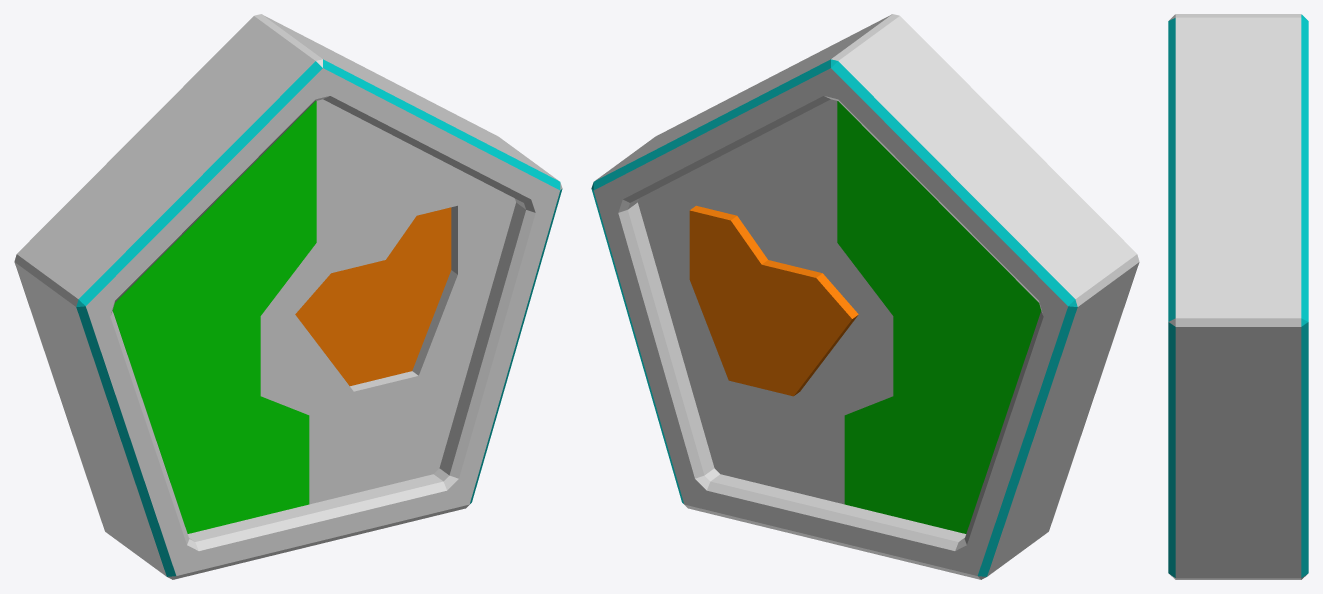
File: door_ver1.obj
The picture shows the model from 3 angles, left to right: view 1: azimuth 30°, elevation 25°; view 2: azimuth 150°, elevation 25°; view 3: azimuth 270°, elevation 25°; orthographic projection.
Parts seen in each view (by area): view 1: object1, object3, object2; view 2: object1, object3, object2; view 3: object1.
Part boxes in pixels (<box>): object1: <box>14,14,562,579</box>; object3: <box>260,99,515,504</box>; object2: <box>112,101,316,533</box>; object1: <box>591,14,1139,579</box>; object3: <box>638,99,893,504</box>; object2: <box>837,101,1041,533</box>; object1: <box>1168,14,1308,579</box>.
Bounding box in the file's own units: 14.07 × 13.38 × 3.46.
